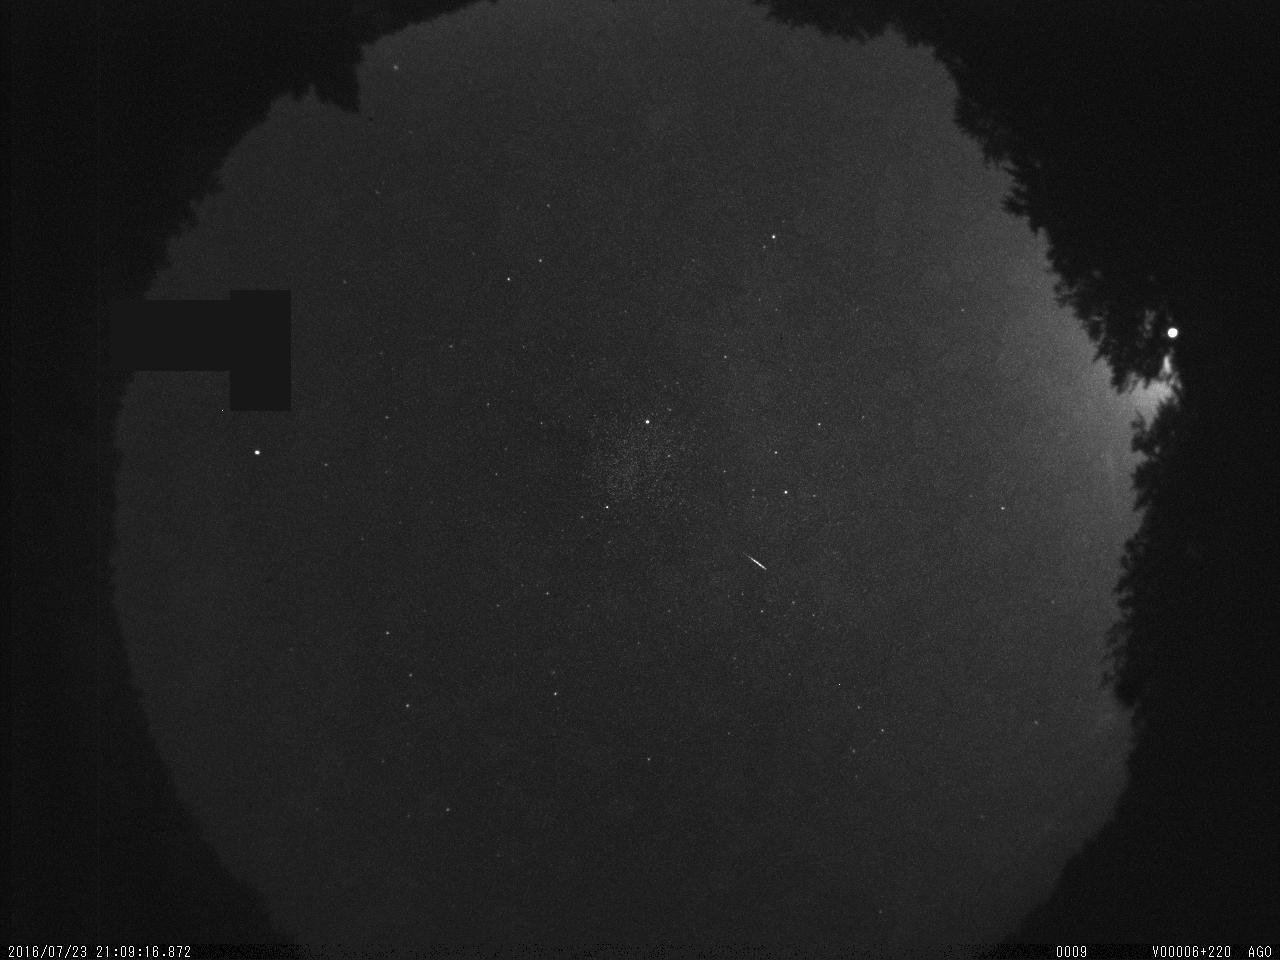Meteor: (742, 549, 767, 569)
